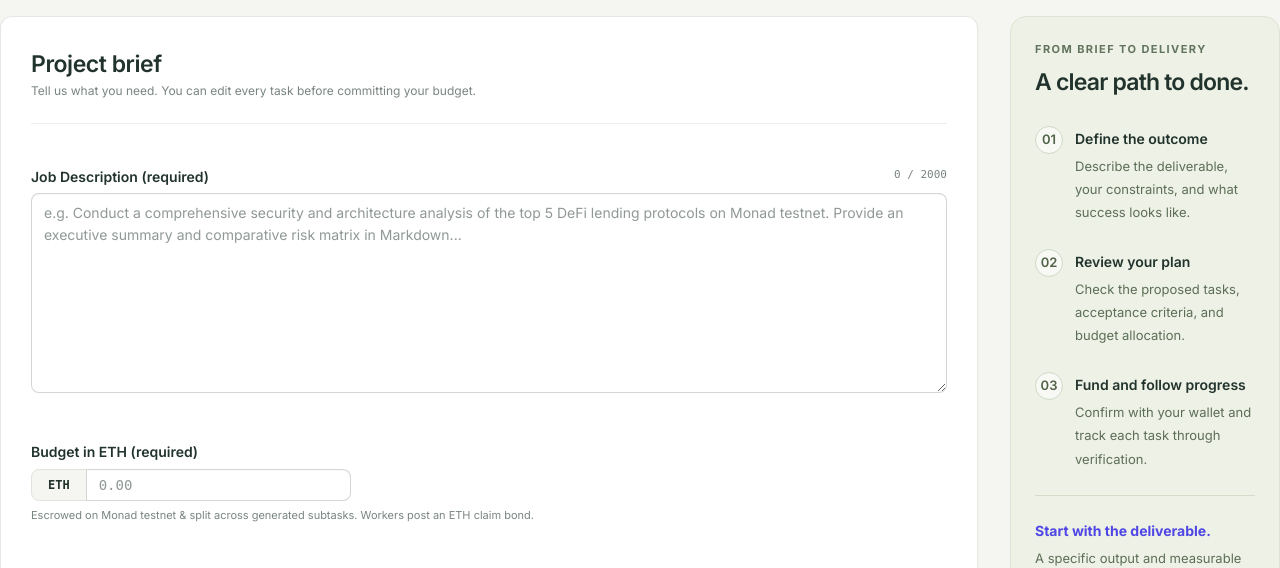
Scenario: CustomerDashboard create-task validation › confirms nothing is spent yet once the form is valid
The image size is (1280, 568).
Replace the text in the text box with id "task-description" with "Research the top 5 lending protocols on Ethereum and compare fees." at (489, 293), box [31,193,947,393]
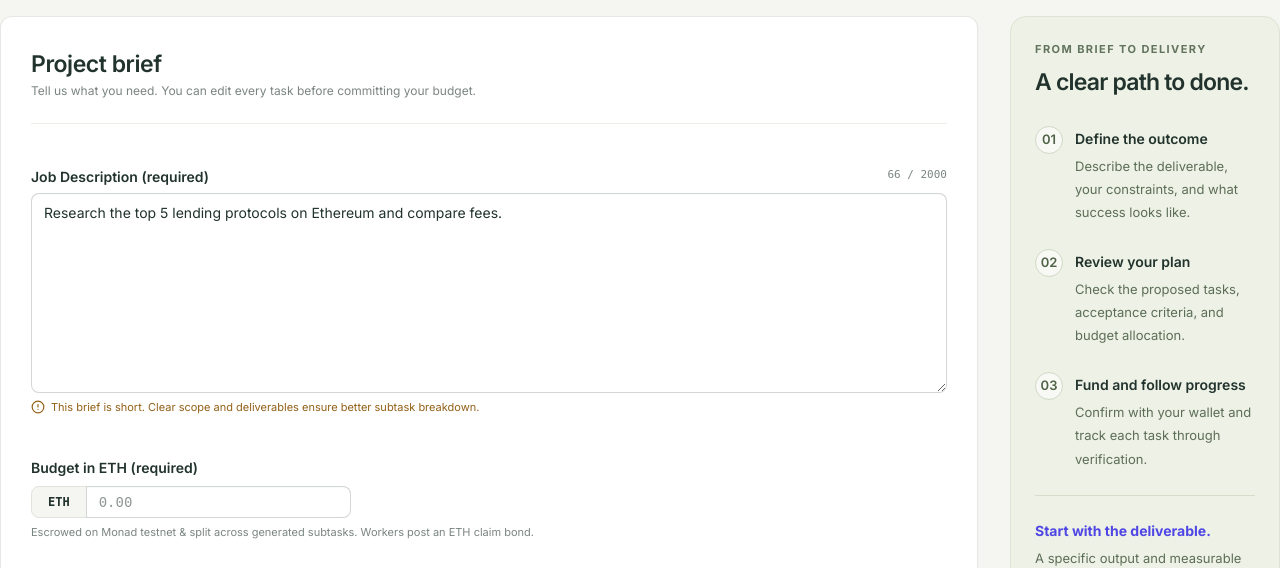
Type "3" into the number field with id "task-budget" at (218, 502), box [86,486,351,518]
(page scrolled)
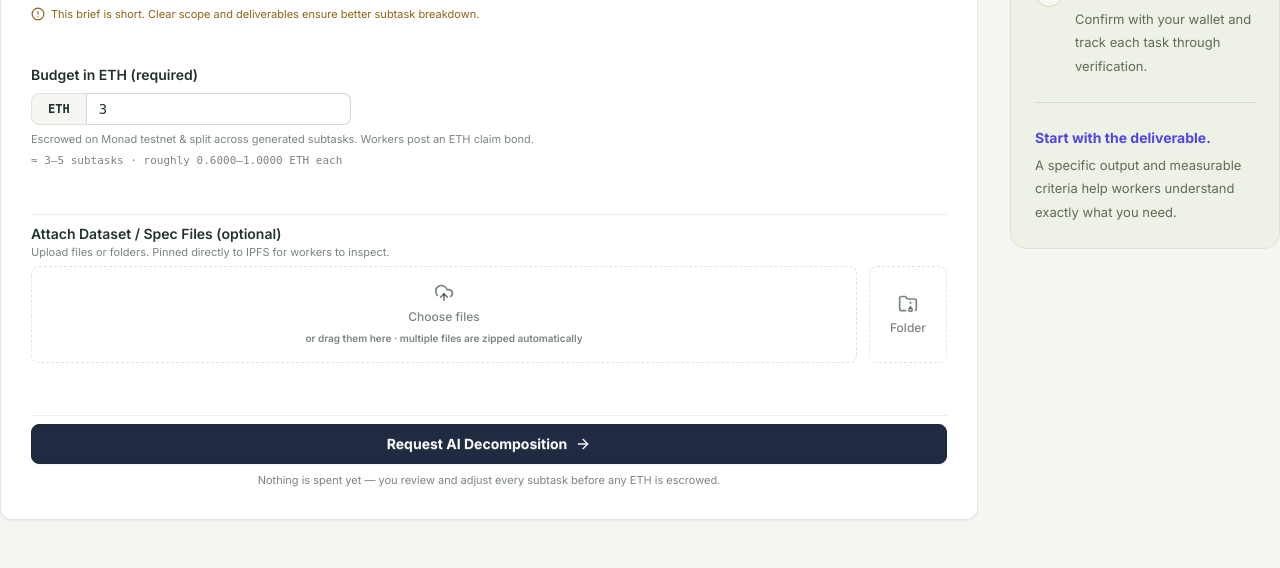
Expected: the text "Nothing is spent yet" is shown, [258,473,630,487]
